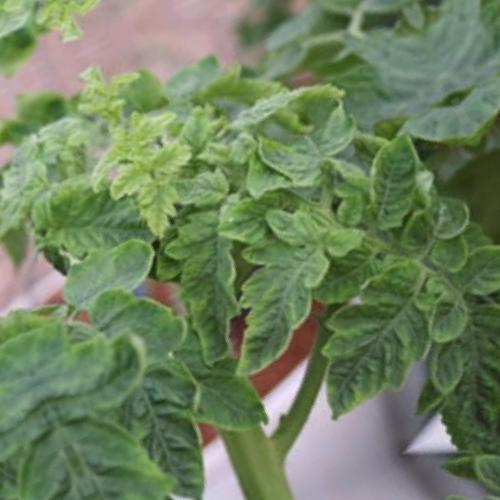Tomato leaf mosaic virus: (191, 212, 380, 386), (279, 257, 464, 427), (11, 149, 169, 290), (143, 200, 275, 364), (110, 366, 230, 500), (341, 125, 446, 239), (52, 228, 169, 325), (199, 175, 302, 258), (247, 114, 335, 204), (443, 236, 500, 311)
